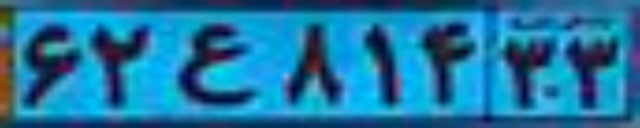1: (359, 23, 399, 104)
2: (92, 23, 148, 106)
3: (562, 35, 621, 109), (500, 35, 551, 107)
4: (420, 21, 472, 104)
6: (21, 24, 81, 105)
8: (282, 21, 342, 105)
ain: (175, 22, 258, 105)
